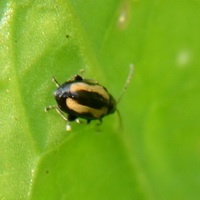insect: (45, 64, 133, 130)
